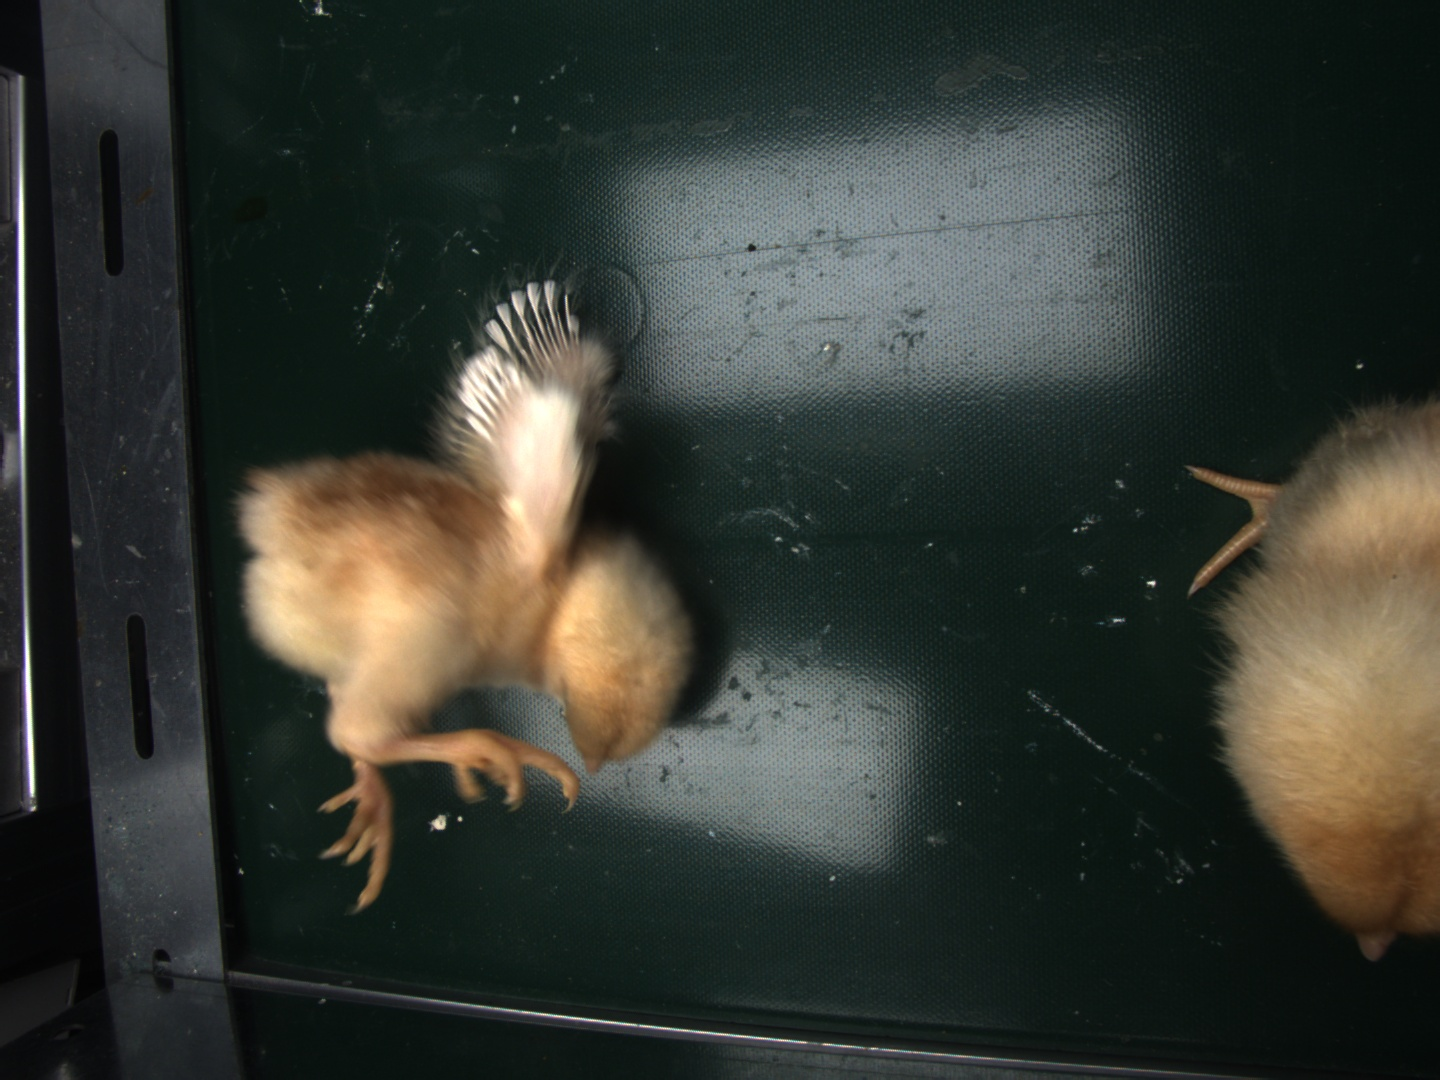female: (486, 281, 581, 389)
